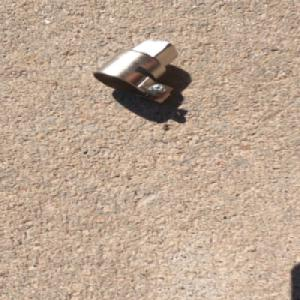MetalPart: (91, 39, 179, 103)
